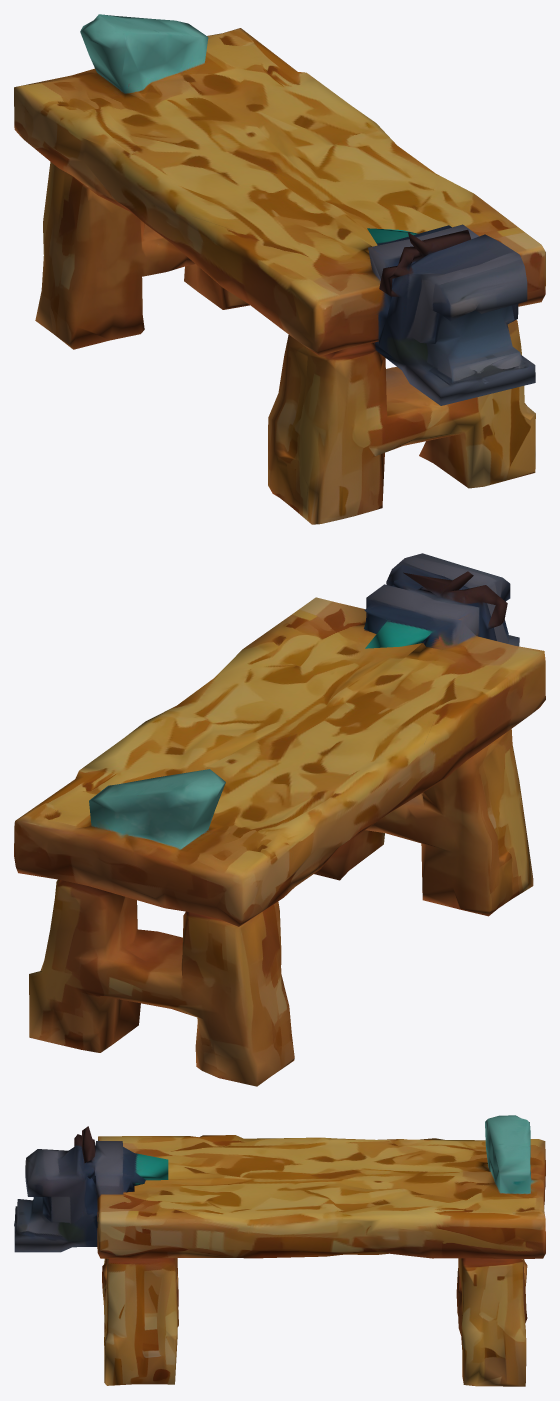
3 renders of one model, top to bottom at view 1: azimuth 30°, elevation 25°; view 2: azimuth 150°, elevation 25°; view 3: azimuth 270°, elevation 25°, orthographic. The views are drawn at different scales.
Visible parts, largest first — view 1: tripo_node_f5615493-cea3-4af2-95ea-a19bb6e43ccb; view 2: tripo_node_f5615493-cea3-4af2-95ea-a19bb6e43ccb; view 3: tripo_node_f5615493-cea3-4af2-95ea-a19bb6e43ccb.
Boxes of the visible parts, <box> form: tripo_node_f5615493-cea3-4af2-95ea-a19bb6e43ccb: <box>14,14,545,524</box>; tripo_node_f5615493-cea3-4af2-95ea-a19bb6e43ccb: <box>14,553,545,1086</box>; tripo_node_f5615493-cea3-4af2-95ea-a19bb6e43ccb: <box>14,1115,545,1386</box>.
Bounding box in the file's own units: 0.3759 × 0.4418 × 1.
Materials: 1 (1 with a texture image).
